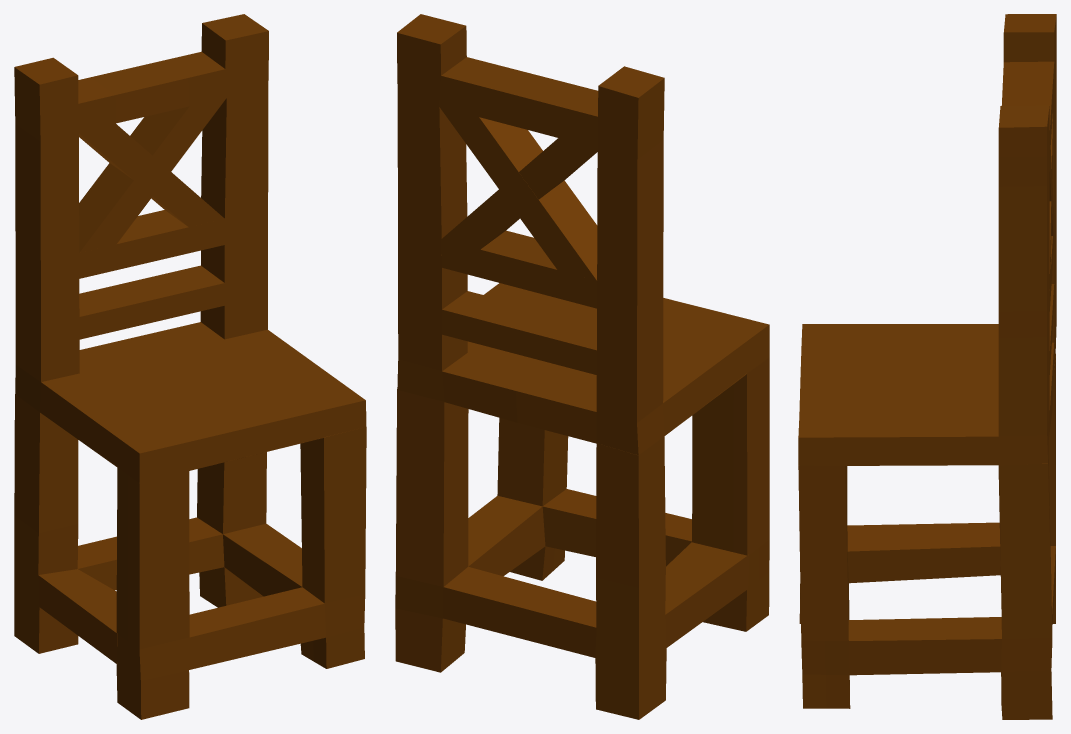
File: chair.fbx
3 renders of one model, left to right at view 1: azimuth 30°, elevation 25°; view 2: azimuth 150°, elevation 25°; view 3: azimuth 270°, elevation 25°, orthographic. The views are drawn at different scales.
Visible parts, largest first — view 1: Cube; view 2: Cube; view 3: Cube.
Part boxes in pixels (x1,y1,x2,y2): Cube: [14, 14, 366, 719]; Cube: [395, 14, 769, 719]; Cube: [798, 14, 1056, 719].
Bounding box in the file's own units: 173 × 414 × 163.
